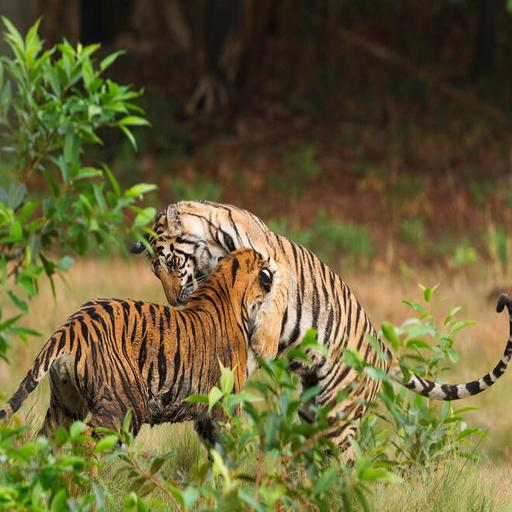Tiger: (139, 175, 512, 510), (0, 241, 280, 505)
